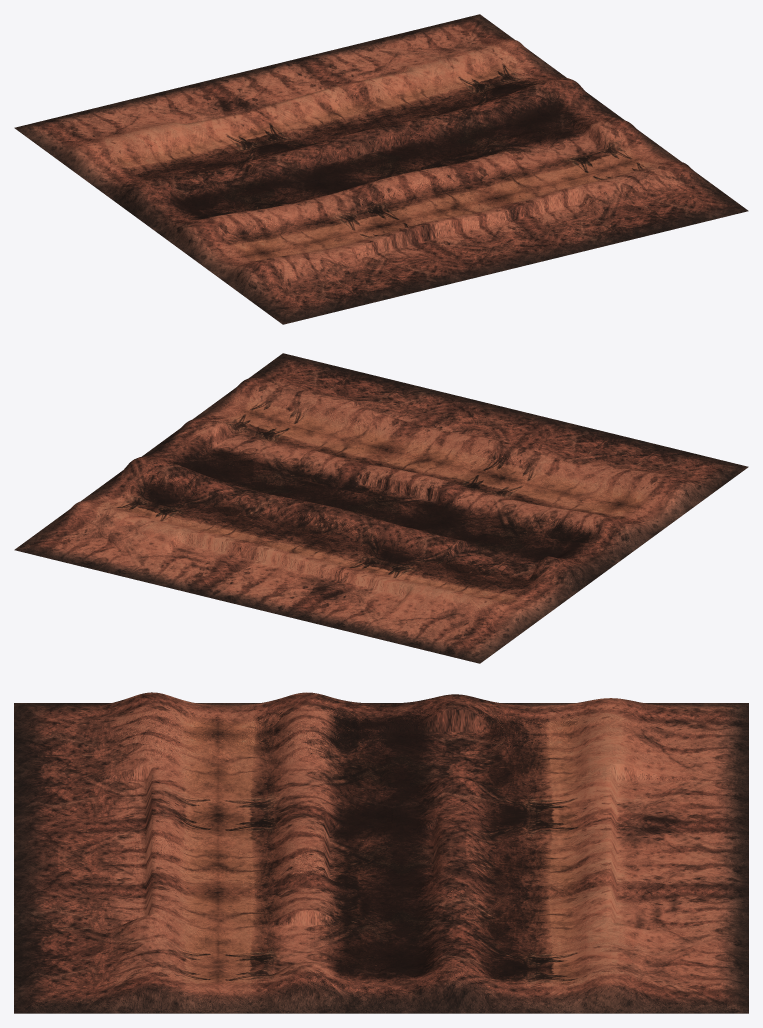
Rendered from devils-alley-terrain.glb.
3 renders of one model, top to bottom at view 1: azimuth 30°, elevation 25°; view 2: azimuth 150°, elevation 25°; view 3: azimuth 270°, elevation 25°, orthographic. The views are drawn at different scales.
Parts seen in each view (by area): view 1: DevilsAlleyTerrain; view 2: DevilsAlleyTerrain; view 3: DevilsAlleyTerrain.
Boxes of the visible parts, x1,y1,x2,y2 form: DevilsAlleyTerrain: (14, 14, 748, 324); DevilsAlleyTerrain: (14, 353, 748, 663); DevilsAlleyTerrain: (14, 692, 748, 1013).
Size of the model in its own units: 128 by 4.71 by 128.
Materials: 1 (1 with a texture image).
